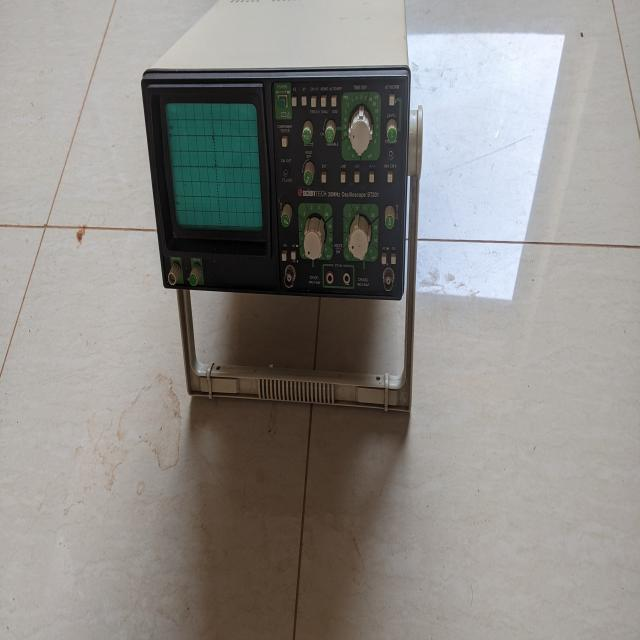Cathode Ray Oscilloscope: (138, 47, 436, 437)
